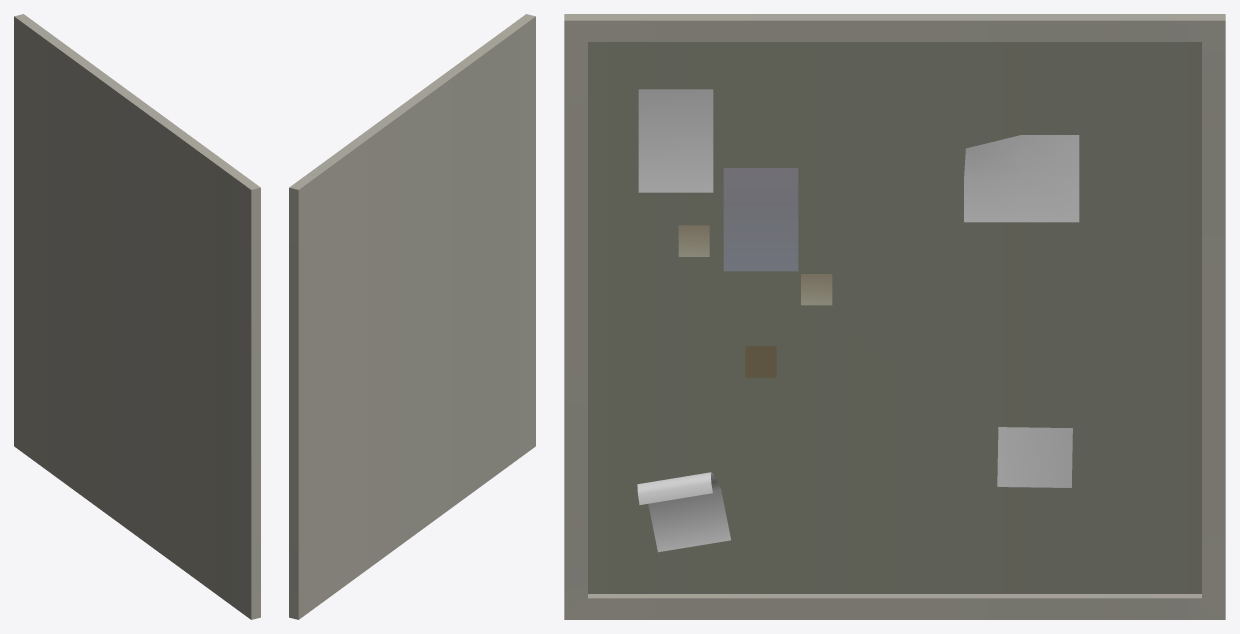
File: wall_board.fbx
3 renders of one model, left to right at view 1: azimuth 30°, elevation 25°; view 2: azimuth 150°, elevation 25°; view 3: azimuth 270°, elevation 25°, orthographic. The views are drawn at different scales.
Parts seen in each view (by area): view 1: Wall_board_with_papers; view 2: Wall_board_with_papers; view 3: Wall_board_with_papers.
Boxes of the visible parts, x1=… form: Wall_board_with_papers: x1=14, y1=14, x2=260, y2=619; Wall_board_with_papers: x1=289, y1=14, x2=535, y2=619; Wall_board_with_papers: x1=564, y1=14, x2=1225, y2=619.
Bounding box in the file's own units: 12.17 × 150 × 150.
